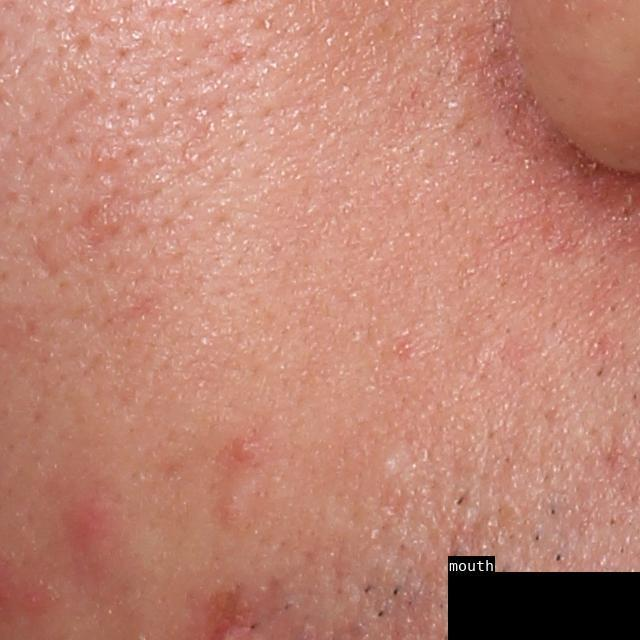atrophic_scar: (72, 196, 121, 248), (30, 231, 63, 286)
papule: (231, 436, 265, 462)
